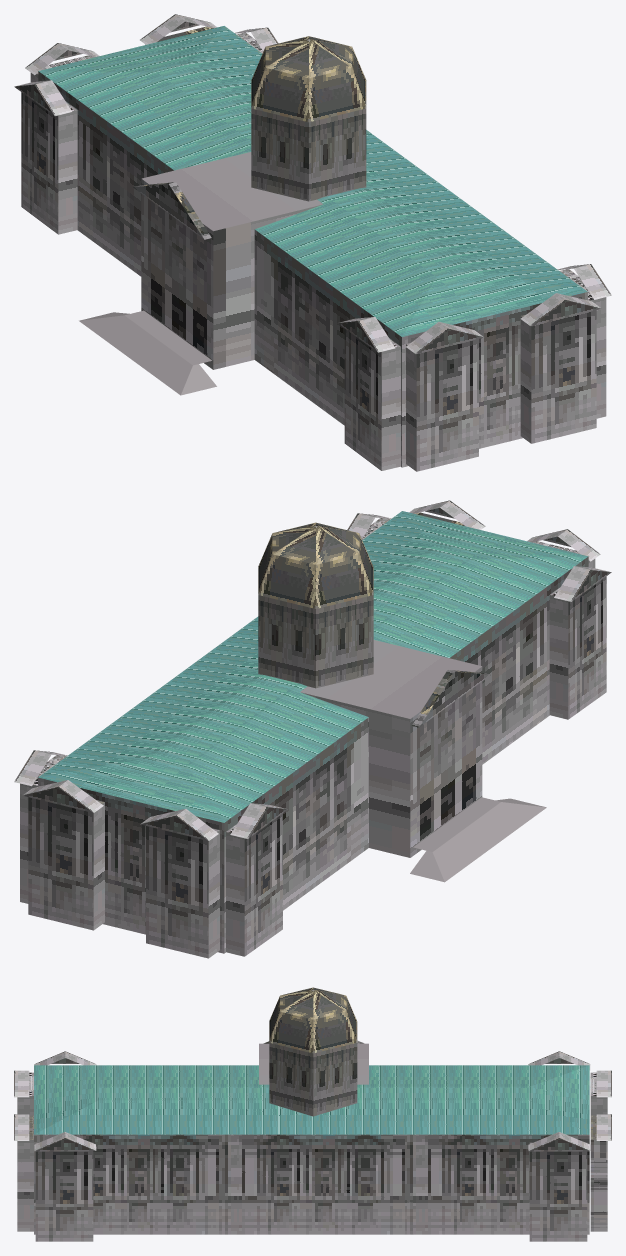
The model's file is lod_sfs064.obj.
The picture shows the model from 3 angles, top to bottom: view 1: azimuth 30°, elevation 25°; view 2: azimuth 150°, elevation 25°; view 3: azimuth 270°, elevation 25°; orthographic projection. The views are drawn at different scales.
Visible parts, largest first — view 1: LOD_sfs064; view 2: LOD_sfs064; view 3: LOD_sfs064.
Boxes of the visible parts, box(x1,y1,x2,y2) form: LOD_sfs064: box(14, 14, 611, 471); LOD_sfs064: box(14, 500, 611, 958); LOD_sfs064: box(14, 987, 611, 1241).
Size of the model in its own units: 50.85 by 44.47 by 115.
Materials: 3 (3 with a texture image).
